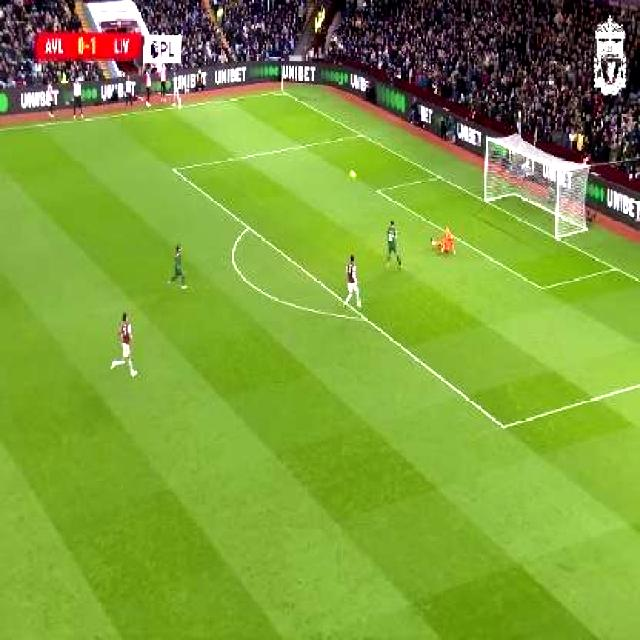bigarea_bottom_inner: (497, 417, 509, 435)
bigarea_top_inner: (170, 163, 178, 175)
bigarea_top_outter: (358, 131, 364, 138)
bottom_arc_area_intersection: (360, 311, 368, 323)
corner: (277, 90, 285, 96)
smallarea_bottom_inner: (535, 278, 548, 296)
smallarea_bottom_outter: (608, 258, 620, 274)
smallarea_top_inner: (372, 187, 382, 196)
smallarea_top_outter: (434, 172, 443, 182)
top_arc_area_intersection: (245, 222, 252, 232)
